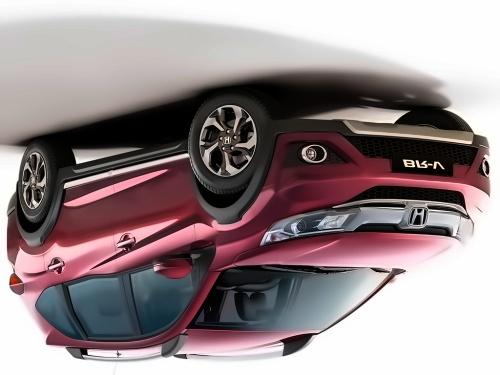Car hood: (217, 230, 475, 268)
Front bumper: (272, 116, 495, 203)
Headlight - -L-: (258, 202, 357, 252)
Headlight - -R-: (442, 209, 486, 254)
Passenger-s door - -F-L-: (118, 158, 205, 347)
Passenger-s door - -R-L-: (40, 168, 119, 348)
Rear bumper: (3, 189, 46, 271)
Rear light - -L-: (5, 268, 32, 302)
Side bumper - -L-: (47, 137, 199, 193)
Side mirror - -L-: (146, 246, 208, 289)
